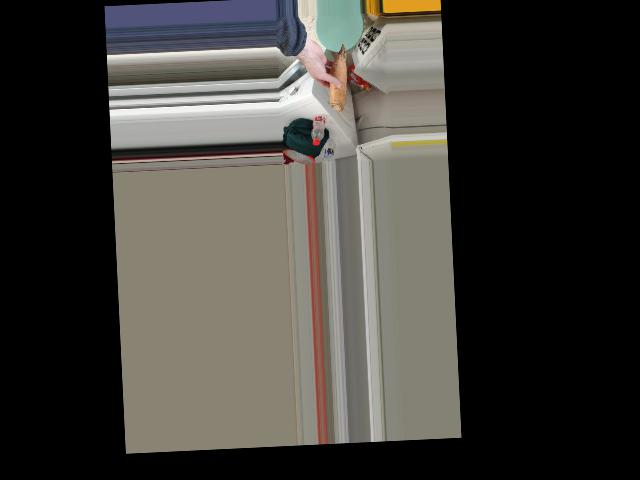sweet_potato: (324, 45, 349, 113)
